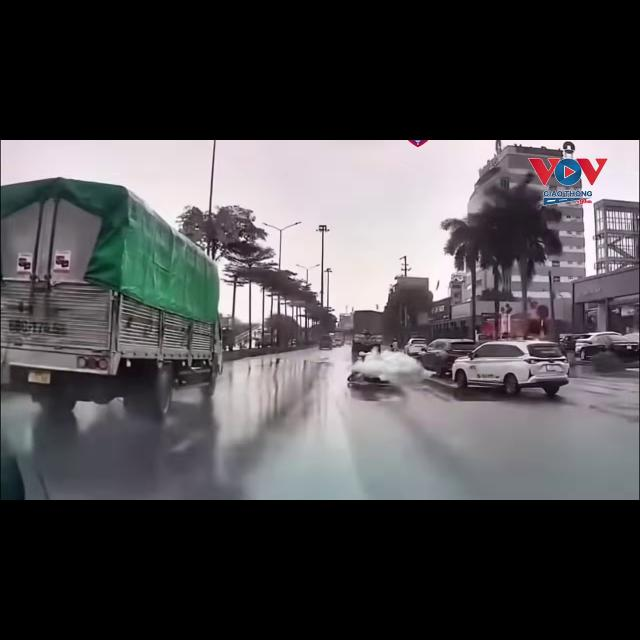car: (452, 340, 569, 395), (419, 339, 476, 375), (577, 334, 638, 361), (574, 332, 620, 356), (560, 334, 589, 351), (404, 338, 428, 357), (319, 335, 333, 349), (624, 332, 639, 342)
truck: (0, 178, 222, 418), (352, 311, 383, 359)
